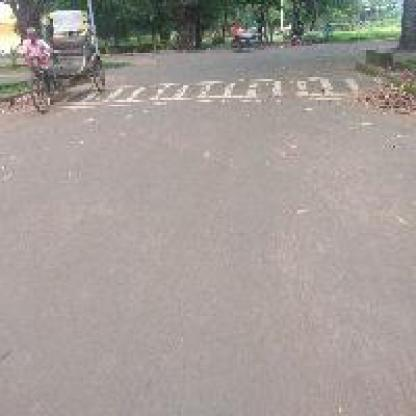Speed Bump: (82, 74, 380, 107)
